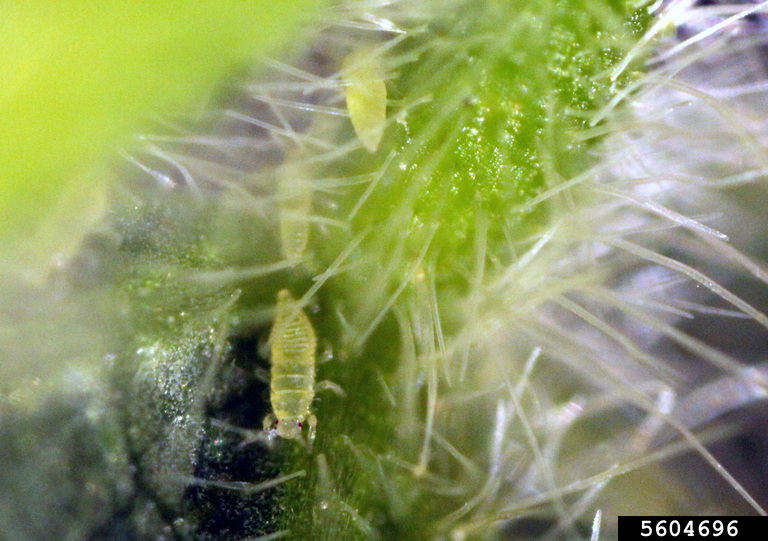Thrips: (269, 284, 319, 447)
